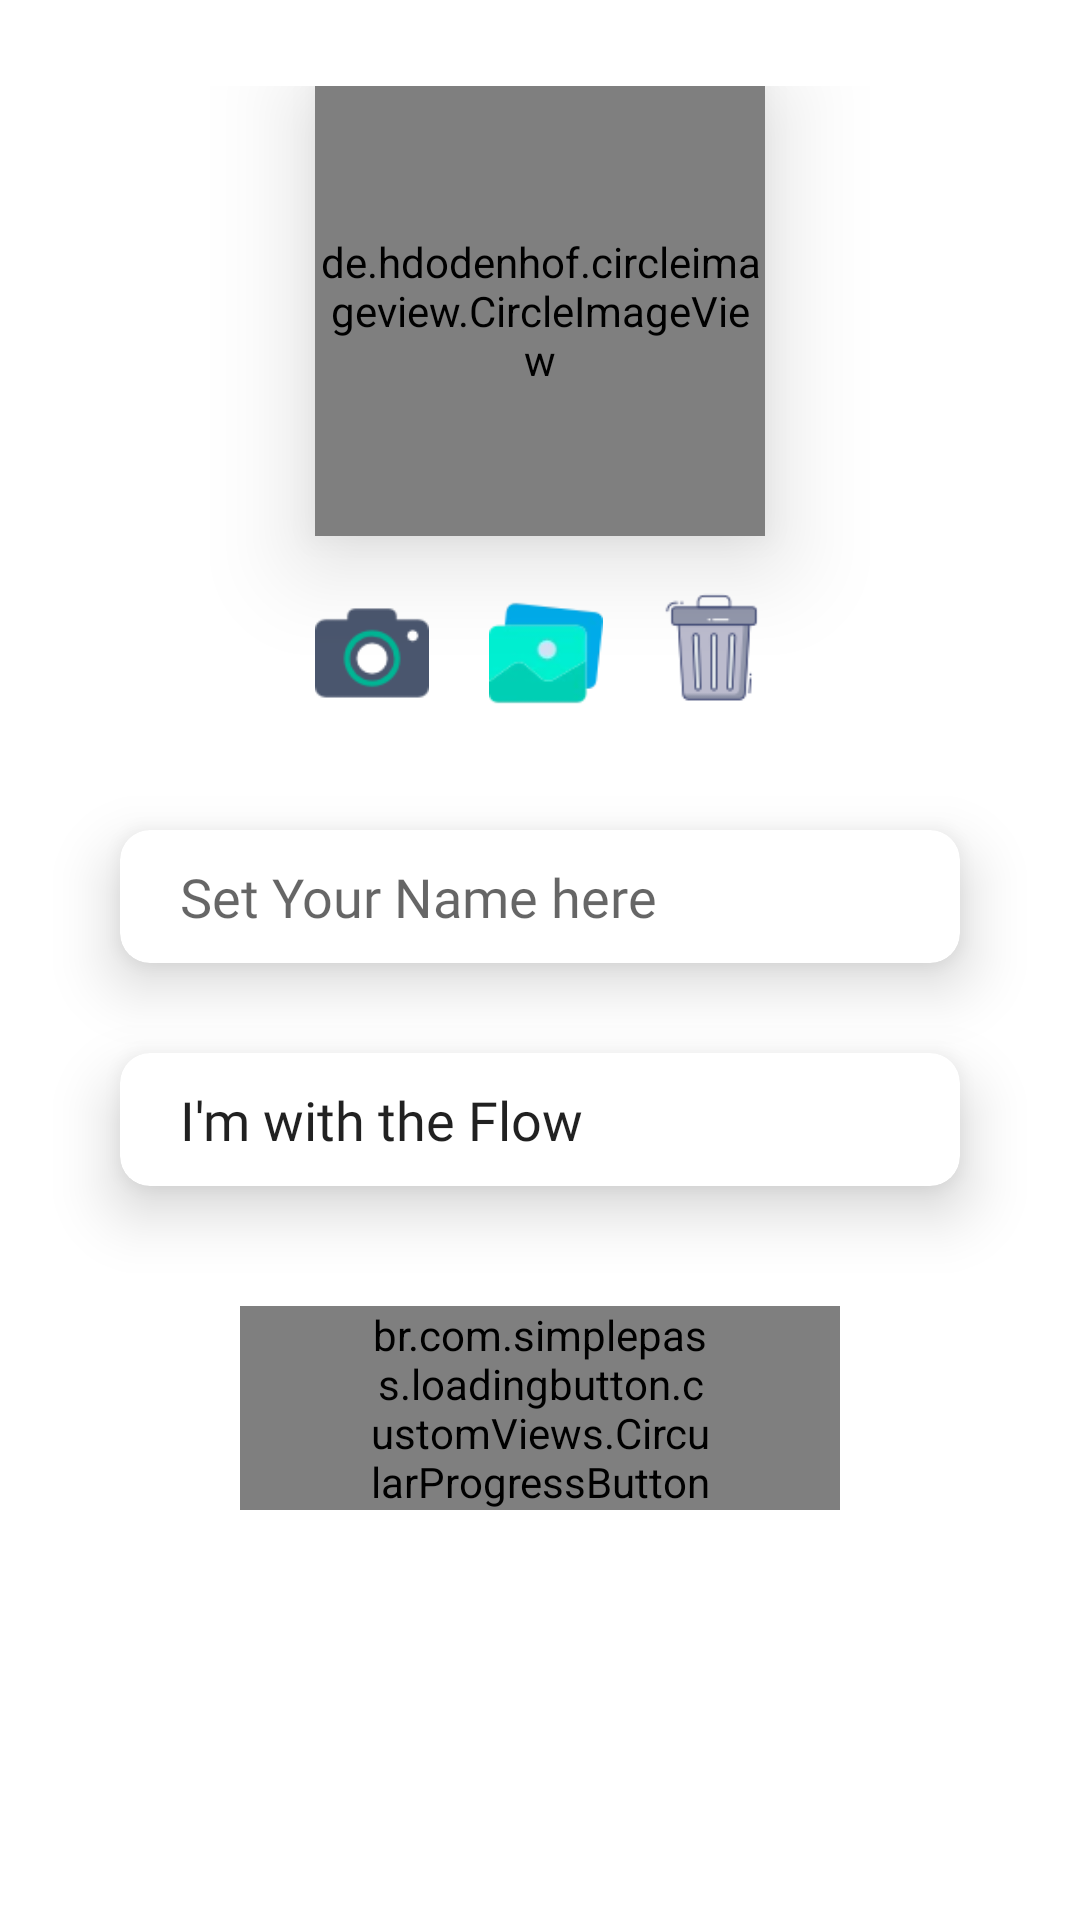

Icons on this 1080px x 1920px Android screen, each with the point to tap as [x,y]:
camera: [372,653]
delete: [711,648]
gallery: [546,653]
